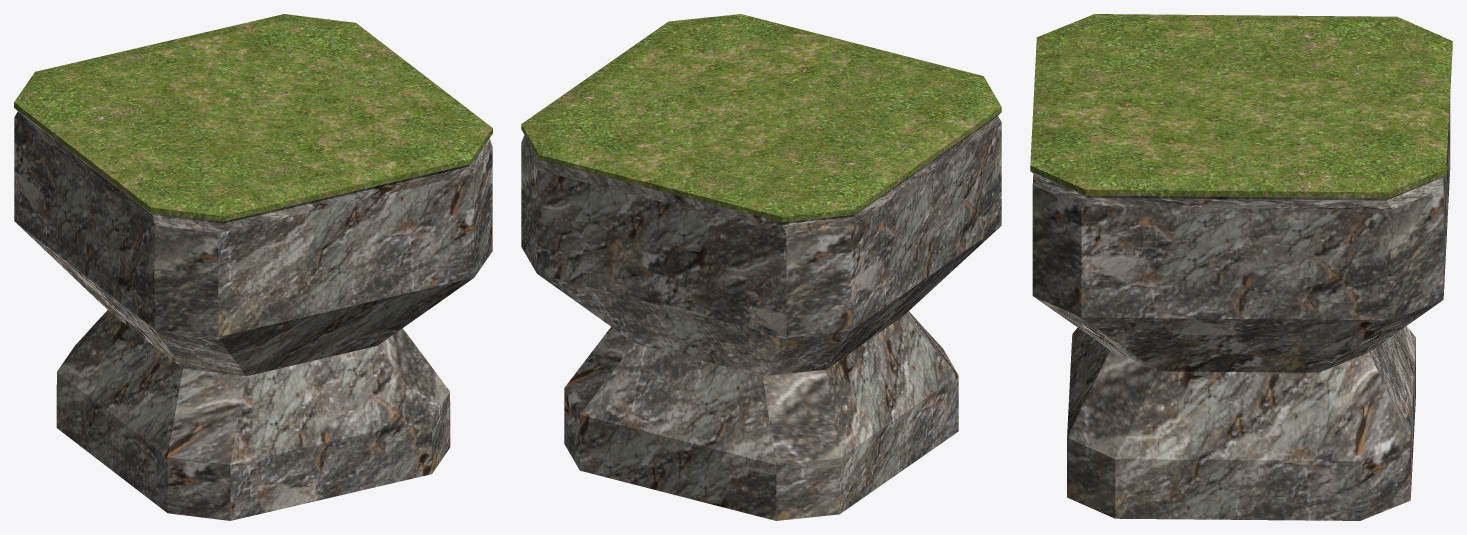
The model's file is ARC0310005.fbx.
The picture shows the model from 3 angles, left to right: view 1: azimuth 30°, elevation 25°; view 2: azimuth 150°, elevation 25°; view 3: azimuth 270°, elevation 25°; orthographic projection. The views are drawn at different scales.
Parts seen in each view (by area): view 1: smARC0310005; view 2: smARC0310005; view 3: smARC0310005.
Boxes of the visible parts, x1,y1,x2,y2 form: smARC0310005: (14,14,492,520); smARC0310005: (521,14,1001,520); smARC0310005: (1030,14,1452,520).
Size of the model in its own units: 136 by 124 by 136.
Materials: 1 (1 with a texture image).
